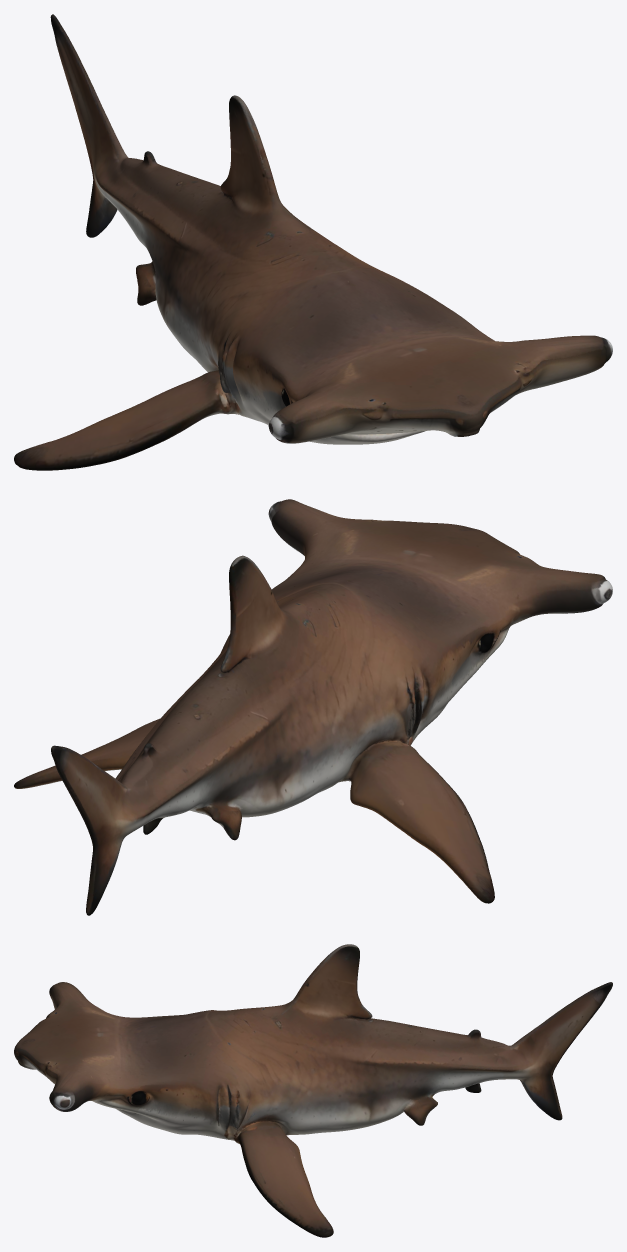
File: hammer_f1.glb
3 views of the same model, one above another, from view 1: azimuth 30°, elevation 25°; view 2: azimuth 150°, elevation 25°; view 3: azimuth 270°, elevation 25° (orthographic). The views are drawn at different scales.
Parts seen in each view (by area): view 1: tripo_node_4541b400-0c9b-4325-9407-ac1f4ee01a36; view 2: tripo_node_4541b400-0c9b-4325-9407-ac1f4ee01a36; view 3: tripo_node_4541b400-0c9b-4325-9407-ac1f4ee01a36.
Boxes of the visible parts, left/top/right/bottom form: tripo_node_4541b400-0c9b-4325-9407-ac1f4ee01a36: left=14, top=14, right=612, bottom=470; tripo_node_4541b400-0c9b-4325-9407-ac1f4ee01a36: left=14, top=499, right=612, bottom=915; tripo_node_4541b400-0c9b-4325-9407-ac1f4ee01a36: left=14, top=944, right=612, bottom=1237.
Bounding box in the file's own units: 0.6487 × 0.3911 × 1.
1 material, 1 textured.
